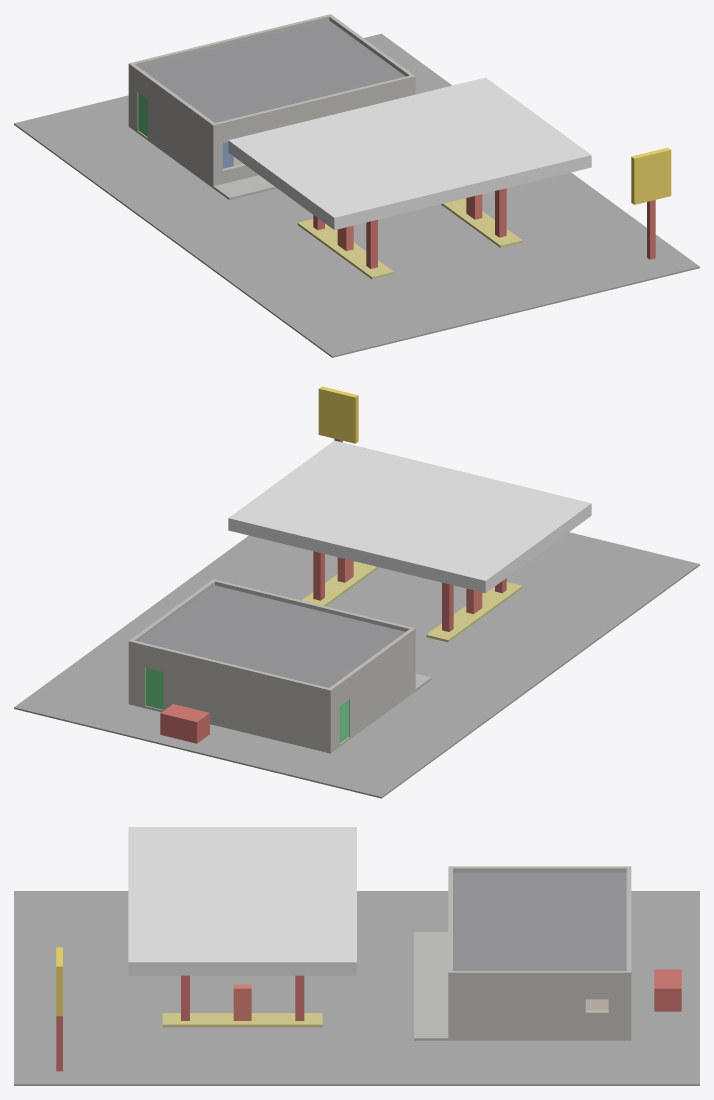
File: GasStation_Graybox.fbx
3 views of the same model, one above another, from view 1: azimuth 30°, elevation 25°; view 2: azimuth 150°, elevation 25°; view 3: azimuth 270°, elevation 25° (orthographic). The views are drawn at different scales.
Visible parts, largest first — view 1: Ground_Forecourt, Canopy_Roof, Roof_Slab, Wall_West_01, PriceSign_Panel, Wall_Front_09, Island_L, Wall_Back_01, Wall_Front_03, Island_R, Sidewalk_Front, Wall_Front_01 (+4 smaller); view 2: Ground_Forecourt, Canopy_Roof, Roof_Slab, Wall_Back_01, Wall_West_01, PriceSign_Panel, Dumpster, Island_L, Wall_Back_04, Island_R, Door_Back; view 3: Ground_Forecourt, Canopy_Roof, Roof_Slab, Wall_East_01, Sidewalk_Front, Island_R, Wall_East_04, Dumpster, Wall_West_01, Wall_East_02, Pump_R, Wall_East_03 (+5 smaller).
Boxes of the visible parts, bbox=[...] form: Ground_Forecourt: bbox=[14, 33, 699, 357]; Canopy_Roof: bbox=[228, 77, 591, 229]; Roof_Slab: bbox=[139, 20, 405, 122]; Wall_West_01: bbox=[147, 76, 214, 186]; PriceSign_Panel: bbox=[631, 147, 671, 204]; Wall_Front_09: bbox=[327, 77, 406, 115]; Island_L: bbox=[297, 219, 393, 279]; Wall_Back_01: bbox=[128, 22, 297, 127]; Wall_Front_03: bbox=[221, 108, 277, 142]; Island_R: bbox=[441, 198, 522, 247]; Sidewalk_Front: bbox=[213, 175, 276, 200]; Wall_Front_01: bbox=[211, 121, 222, 187]; Ground_Forecourt: bbox=[14, 532, 699, 798]; Canopy_Roof: bbox=[228, 440, 591, 592]; Roof_Slab: bbox=[138, 585, 405, 687]; Wall_Back_01: bbox=[163, 648, 332, 753]; Wall_West_01: bbox=[346, 629, 413, 739]; PriceSign_Panel: bbox=[318, 386, 358, 443]; Dumpster: bbox=[160, 704, 209, 743]; Island_L: bbox=[426, 582, 522, 642]; Wall_Back_04: bbox=[128, 639, 146, 708]; Island_R: bbox=[302, 561, 378, 606]; Door_Back: bbox=[145, 668, 163, 709]; Ground_Forecourt: bbox=[14, 891, 699, 1085]; Canopy_Roof: bbox=[128, 827, 356, 975]; Roof_Slab: bbox=[453, 872, 626, 970]; Wall_East_01: bbox=[453, 971, 585, 1040]; Sidewalk_Front: bbox=[414, 932, 448, 1040]; Island_R: bbox=[162, 1013, 322, 1027]; Wall_East_04: bbox=[608, 971, 626, 1040]; Dumpster: bbox=[654, 969, 681, 1011]; Wall_West_01: bbox=[453, 866, 590, 872]; Wall_East_02: bbox=[585, 1010, 608, 1040]; Pump_R: bbox=[233, 984, 251, 1020]; Wall_East_03: bbox=[585, 971, 608, 999].
Size of the model in its own units: 25 by 6.9 by 37.5.
